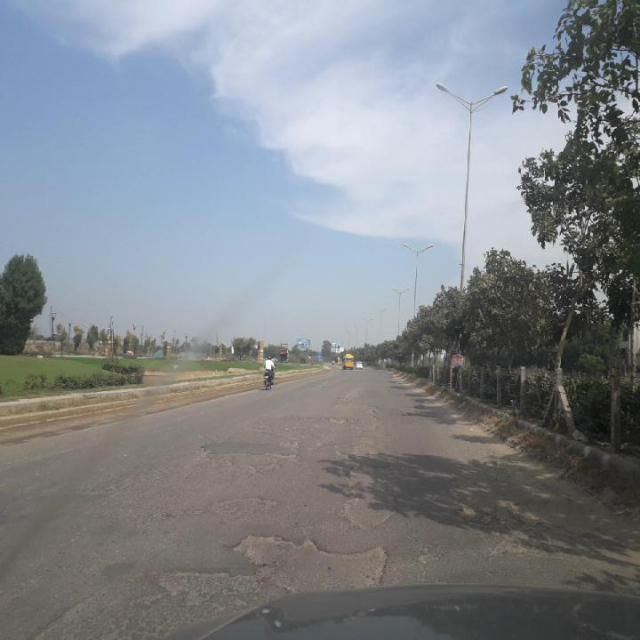Surface Erosion: (145, 400, 618, 609)
